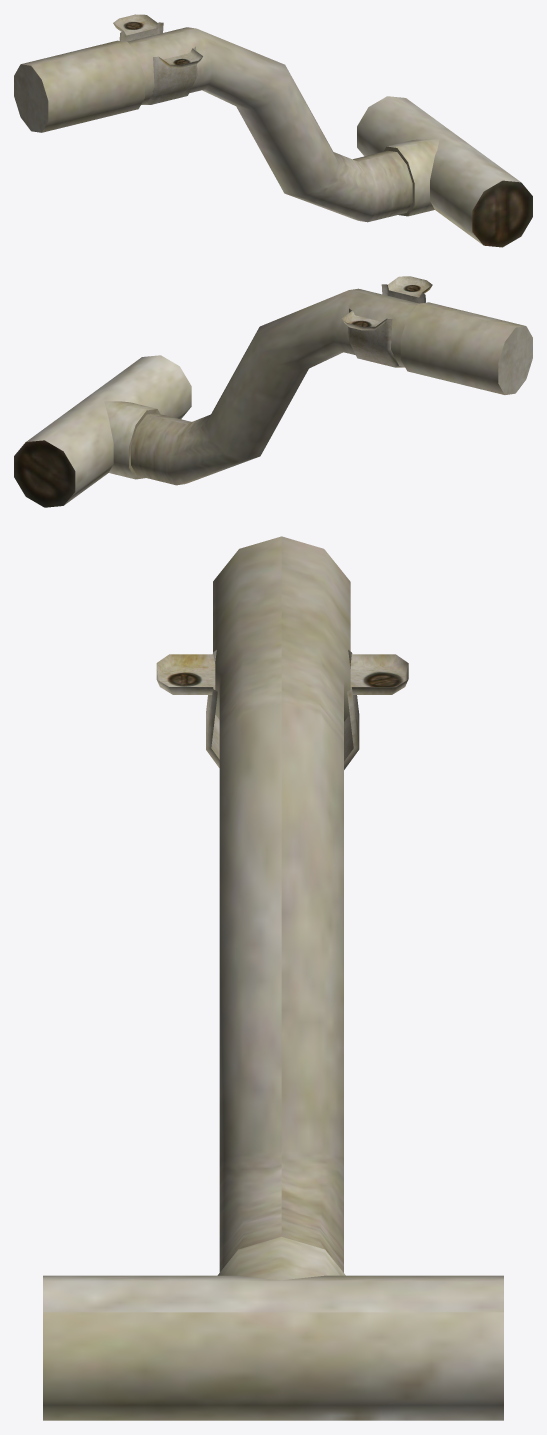
File: Electric_Pipe_T_Bend.fbx
3 renders of one model, top to bottom at view 1: azimuth 30°, elevation 25°; view 2: azimuth 150°, elevation 25°; view 3: azimuth 270°, elevation 25°, orthographic. The views are drawn at different scales.
Visible parts, largest first — view 1: Electric_Pipe_T_Bend; view 2: Electric_Pipe_T_Bend; view 3: Electric_Pipe_T_Bend.
Boxes of the visible parts, x1,y1,x2,y2 form: Electric_Pipe_T_Bend: (14,14,532,247); Electric_Pipe_T_Bend: (14,276,532,507); Electric_Pipe_T_Bend: (43,536,503,1420).
Bounding box in the file's own units: 0.1895 × 0.0977 × 0.0856.
